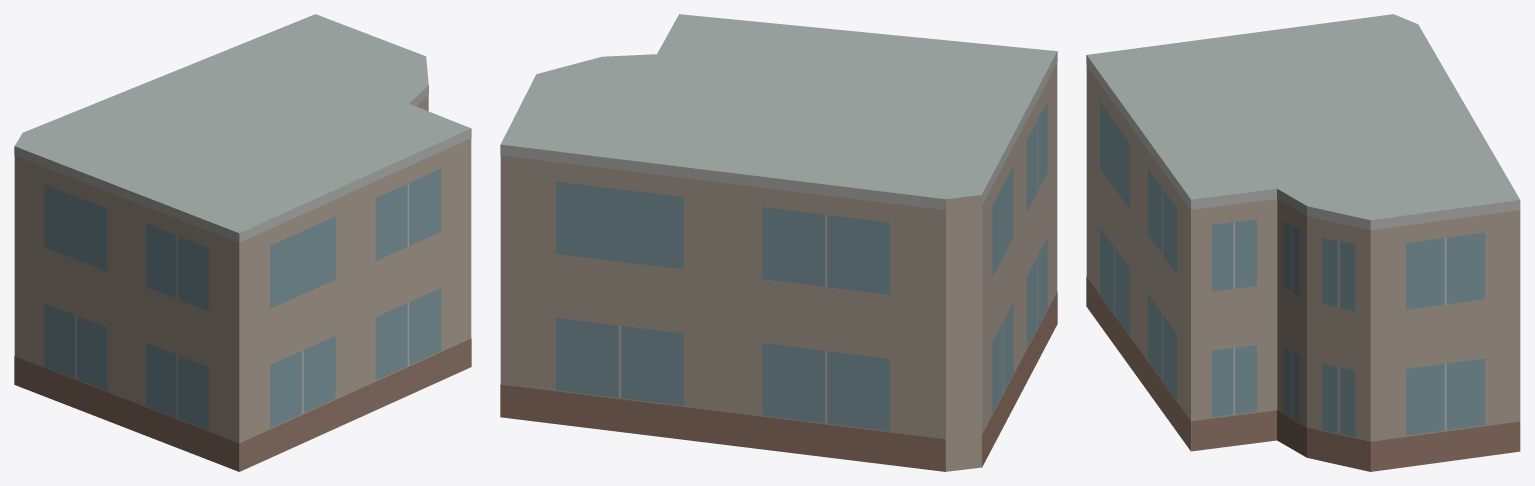
Rendered from survey-upis-32918911.glb.
3 views of the same model, side by side, from view 1: azimuth 30°, elevation 25°; view 2: azimuth 150°, elevation 25°; view 3: azimuth 270°, elevation 25° (orthographic). The views are drawn at different scales.
Visible parts, largest first — view 1: survey-upis-32918911.tmp; view 2: survey-upis-32918911.tmp; view 3: survey-upis-32918911.tmp.
Boxes of the visible parts, x1,y1,x2,y2 form: survey-upis-32918911.tmp: [14, 14, 471, 471]; survey-upis-32918911.tmp: [500, 14, 1057, 471]; survey-upis-32918911.tmp: [1086, 14, 1520, 471].
Size of the model in its own units: 10.74 by 6.1 by 9.54.
